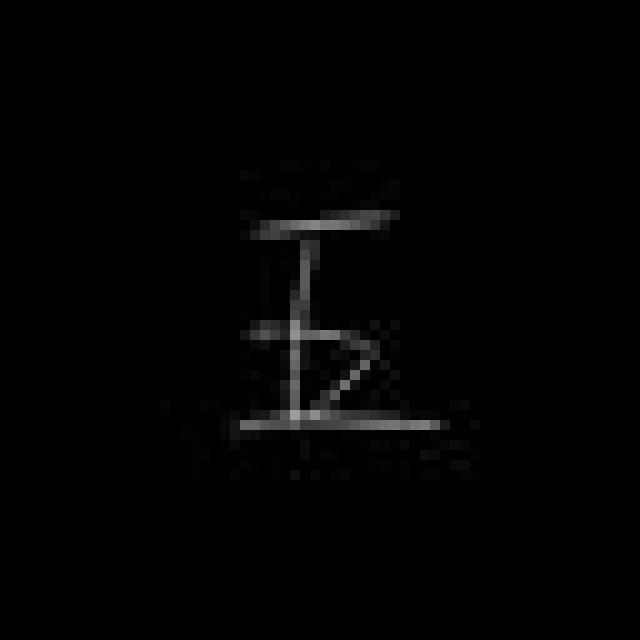5 -five-: (229, 208, 453, 441)
